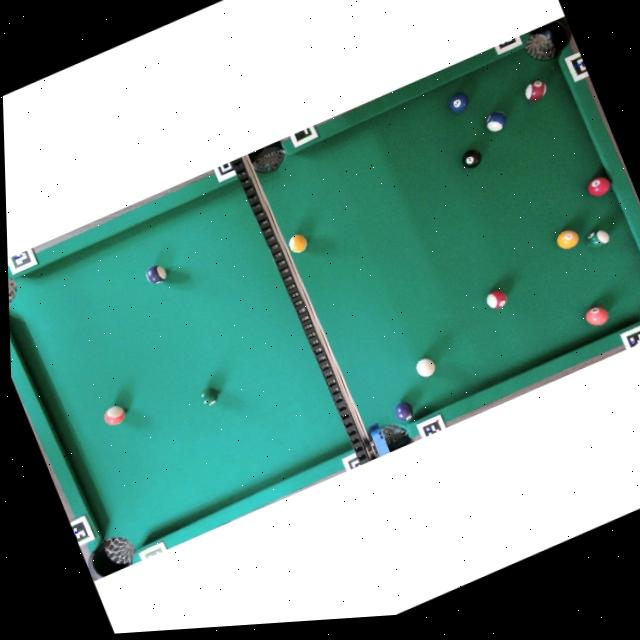cue ball: (414, 355, 439, 380)
other: (585, 172, 615, 200), (521, 77, 550, 105), (554, 226, 582, 253), (584, 302, 611, 330), (483, 108, 510, 136), (102, 402, 129, 429), (446, 89, 472, 117), (484, 286, 510, 313), (585, 226, 612, 251), (459, 145, 484, 171), (286, 230, 311, 256), (144, 262, 169, 287), (392, 399, 416, 425), (198, 384, 222, 409)
